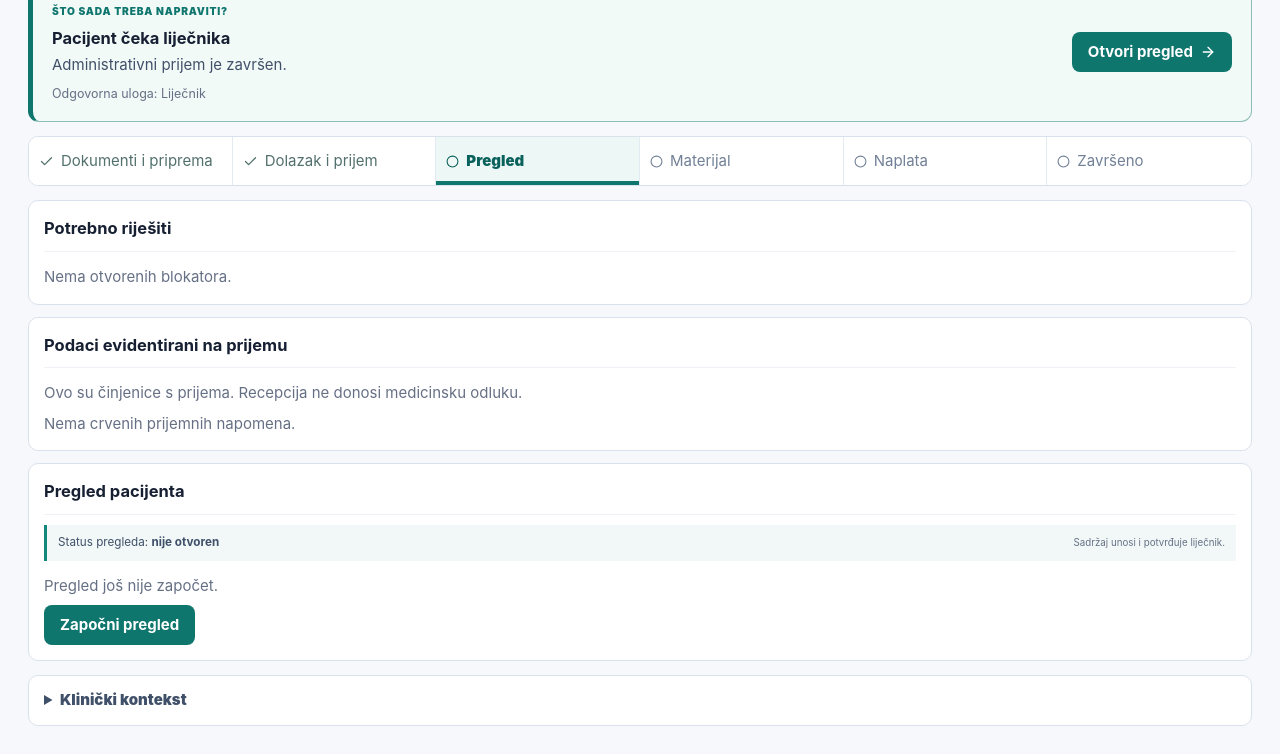
Test: fokusirani radni prostor tijeka pacijenta › klinički kontekst je sekundaran, ali dokumenti su dostupni jednim otvaranjem
(page scrolled)
Expected: the heading "Pacijent čeka liječnika" is shown, [52,28,230,48]
Click the heading "Klinički kontekst".
click(123, 700)  # box [60,690,187,709]
(page scrolled)
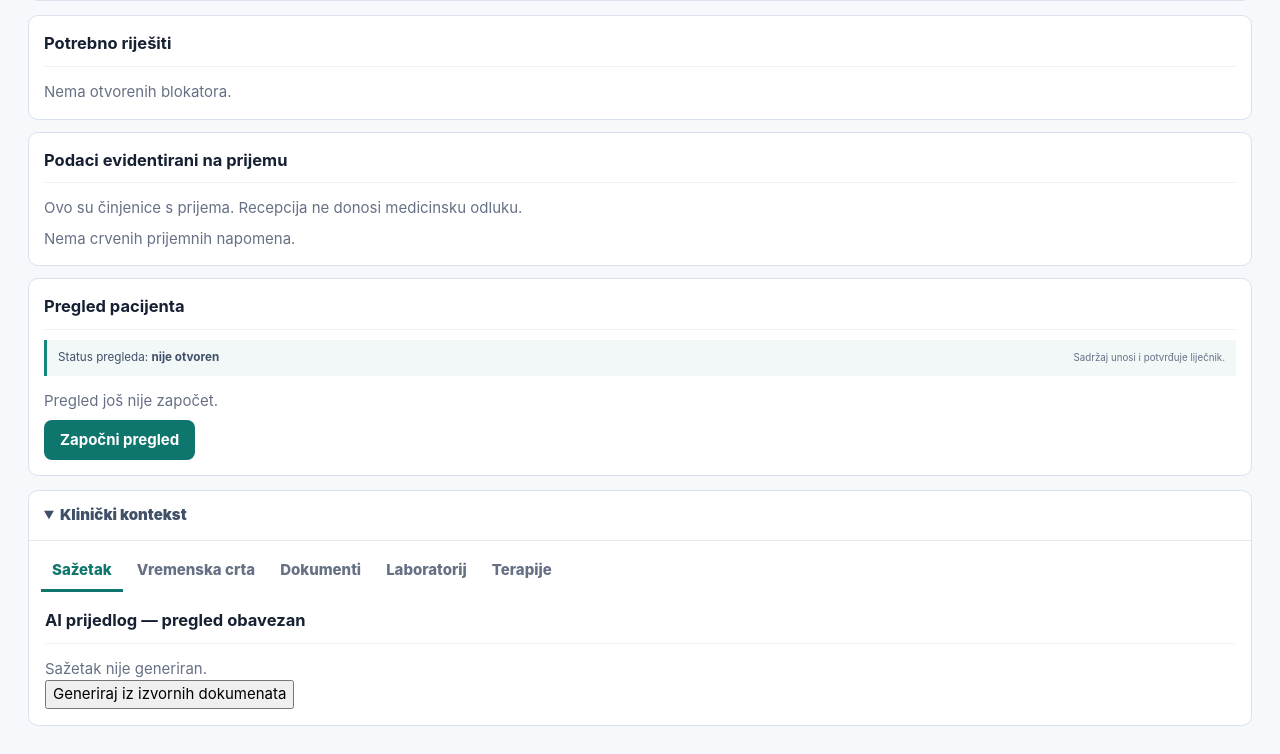
Result: the tab "Dokumenti" is shown at [269,551,372,592]
